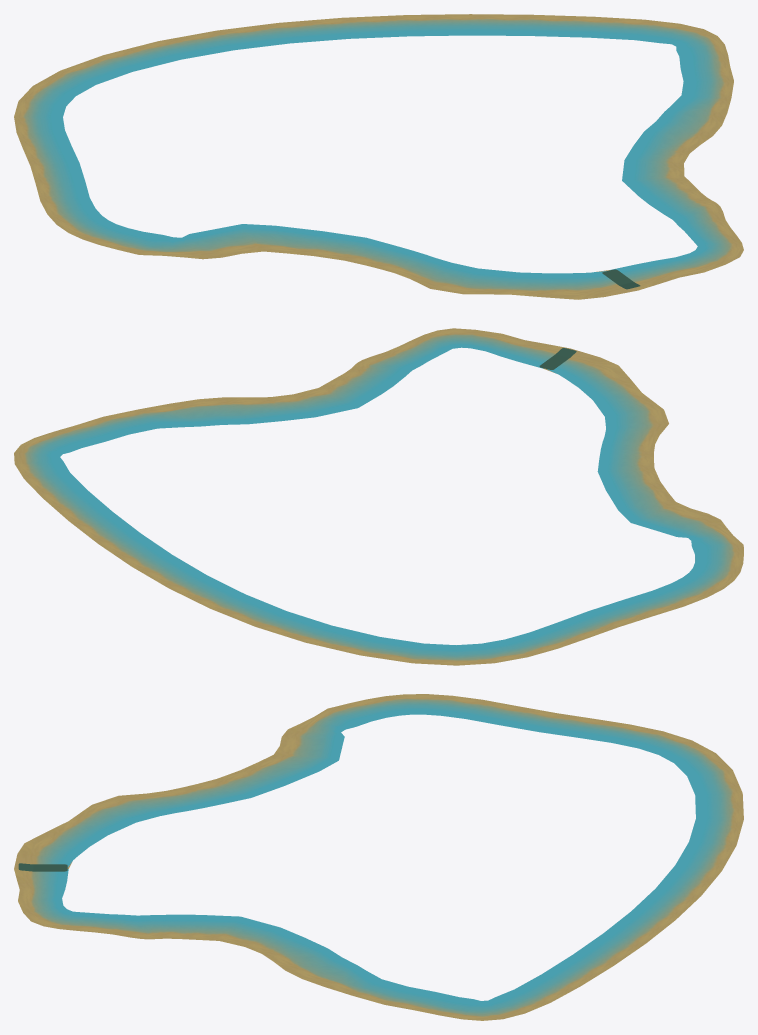
File: Beachwater.fbx
The picture shows the model from 3 angles, top to bottom: view 1: azimuth 30°, elevation 25°; view 2: azimuth 150°, elevation 25°; view 3: azimuth 270°, elevation 25°; orthographic projection. The views are drawn at different scales.
Visible parts, largest first — view 1: Beachwater; view 2: Beachwater; view 3: Beachwater.
Part boxes in pixels (left/top/right/bottom): Beachwater: left=14, top=14, right=743, bottom=299; Beachwater: left=14, top=328, right=743, bottom=665; Beachwater: left=14, top=694, right=743, bottom=1020.
Size of the model in its own units: 109 by 0.2127 by 103.
2 materials, 1 textured.
